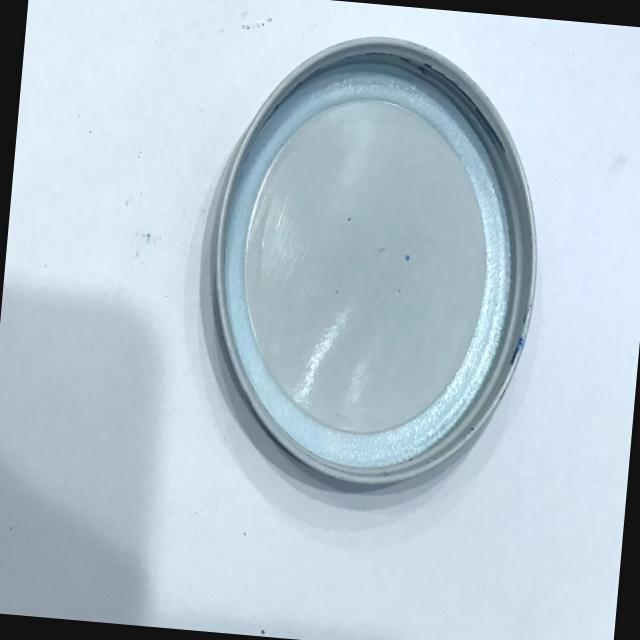metal: (176, 7, 568, 514)
